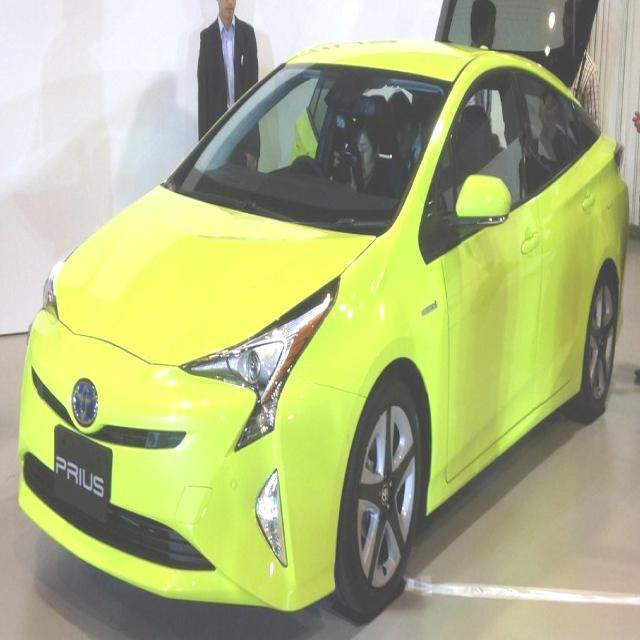green: (17, 28, 628, 621)
